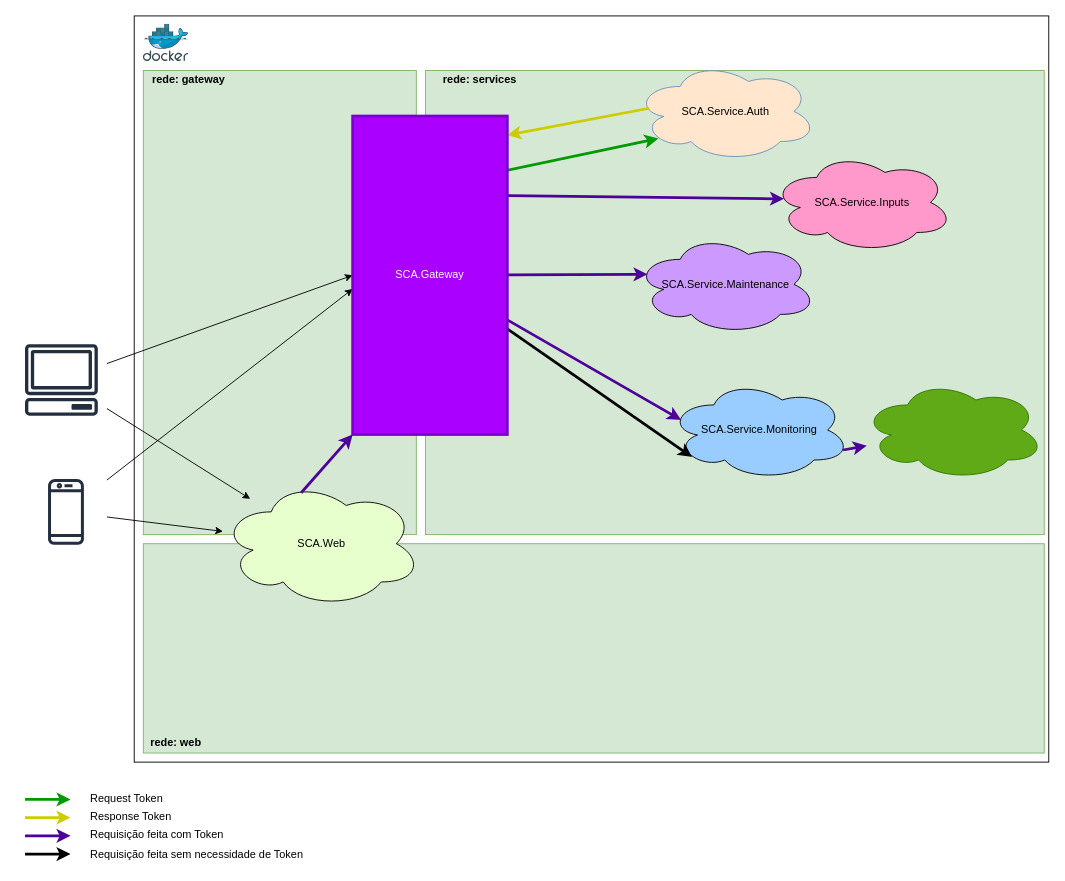
Some shapes in this 1065 by 881 pixel diagram are drawn without their labels. The centre of each missing label's shape, as x and y in pixels:
Client: the point at 61,379
Mobile client: the point at 65,511
SCA.Service.Alert: the point at 952,429
